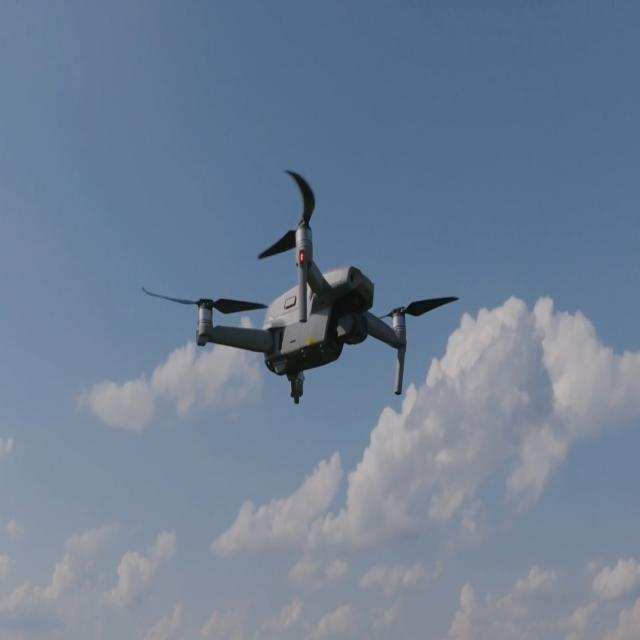Drone: (191, 180, 440, 402)
